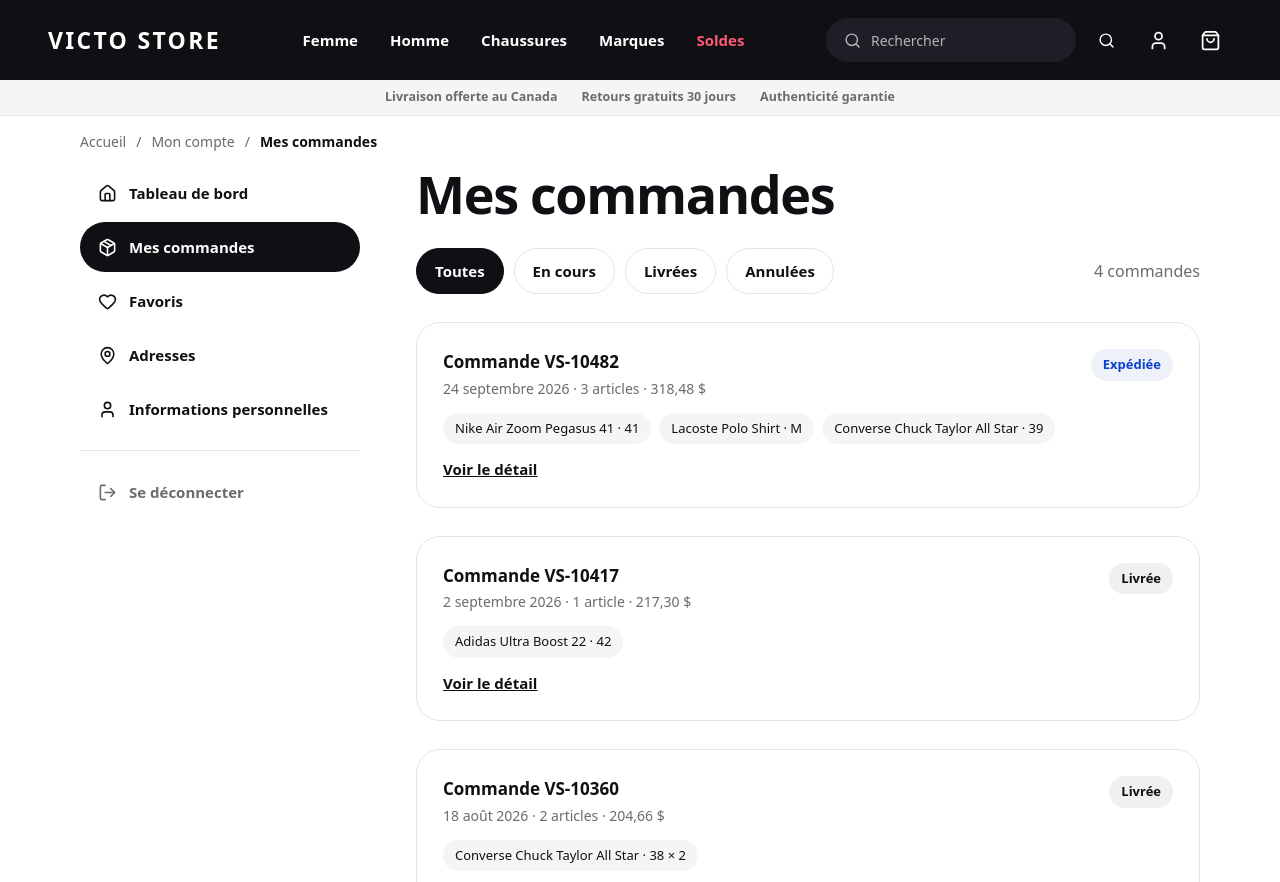
Scenario: mes commandes › filtre par statut
The width and height of the screenshot is (1280, 882).
Click the button "Livrées" at (671, 271), box [625, 248, 716, 294]
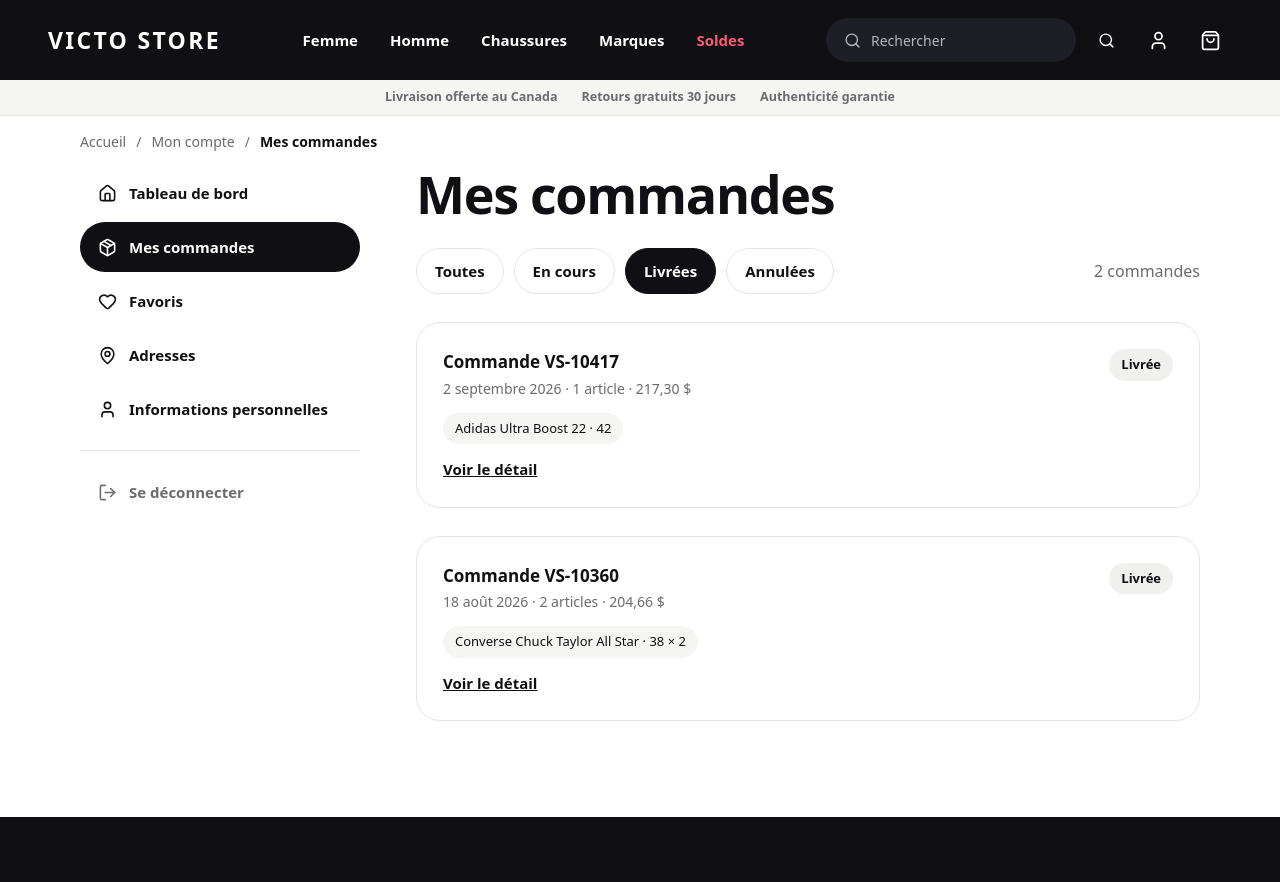
Result: the button "Livrées" is pressed at [625, 248, 716, 294]
Click the button "Annulées" at (780, 271), box [726, 248, 834, 294]
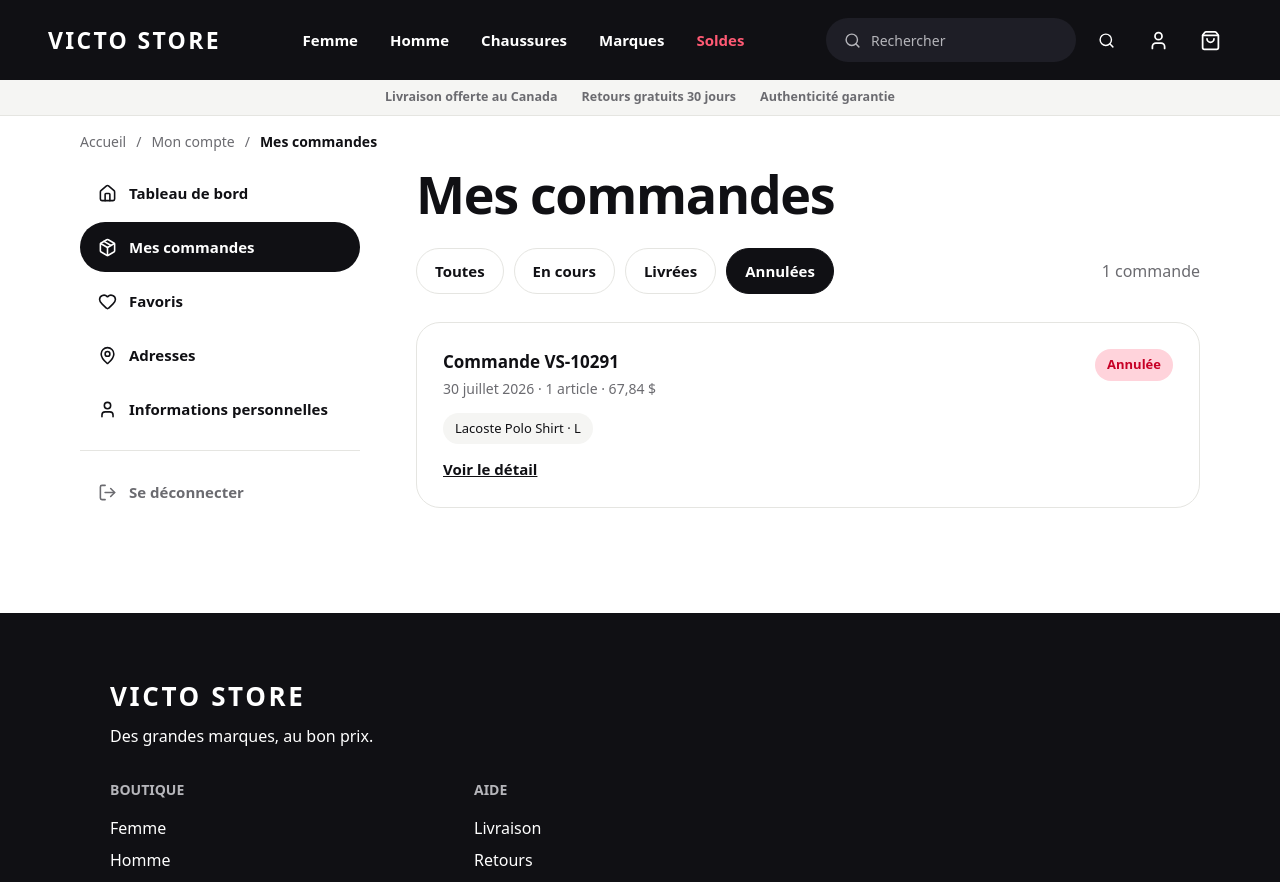
Result: the text with test id "commandes-nombre" reads "1 commande" at [1102, 260, 1200, 282]
